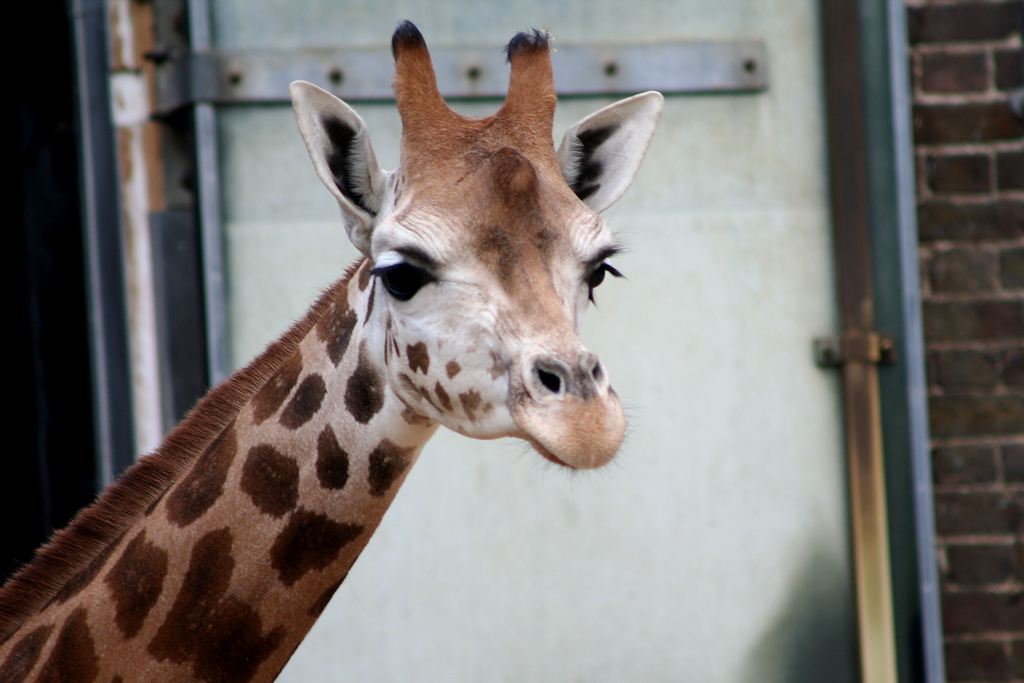giraffe: (106, 35, 667, 641)
